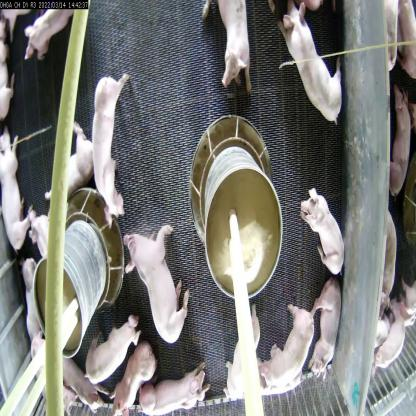Pig: (281, 7, 356, 126), (123, 225, 191, 348), (90, 69, 135, 226), (210, 0, 275, 93), (295, 174, 352, 279), (256, 304, 313, 400), (80, 303, 140, 388), (309, 284, 351, 397), (0, 138, 43, 244), (44, 117, 100, 197), (140, 363, 215, 415), (106, 342, 157, 414), (20, 10, 78, 64)
